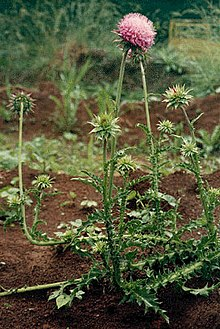thistle: (114, 14, 158, 61)
